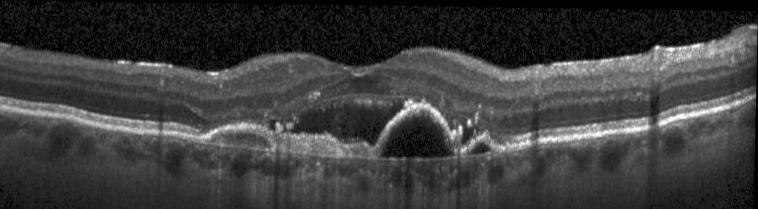neuroepithelium_detachment: (270, 95, 403, 143), (463, 124, 474, 143)
retinal_drusen: (381, 112, 456, 159), (212, 132, 271, 148), (469, 140, 493, 154)
subretinal_hyperreflective_material: (272, 131, 377, 159)
